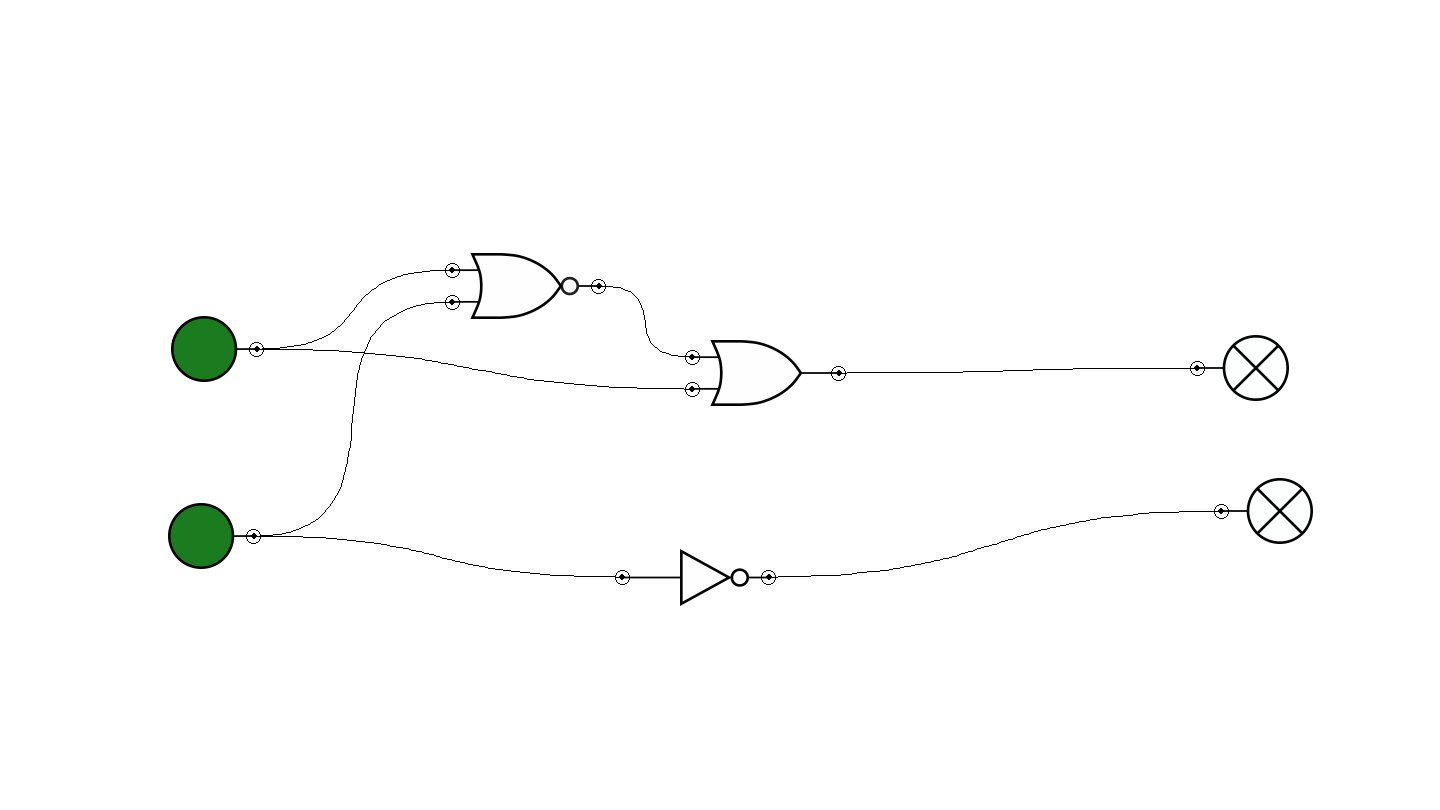bulb: (1190, 335, 1289, 401), (1214, 478, 1313, 544)
nor: (445, 253, 606, 319)
not: (615, 549, 776, 606)
or: (685, 340, 846, 406)
switch_True: (171, 316, 264, 382), (168, 503, 261, 569)
